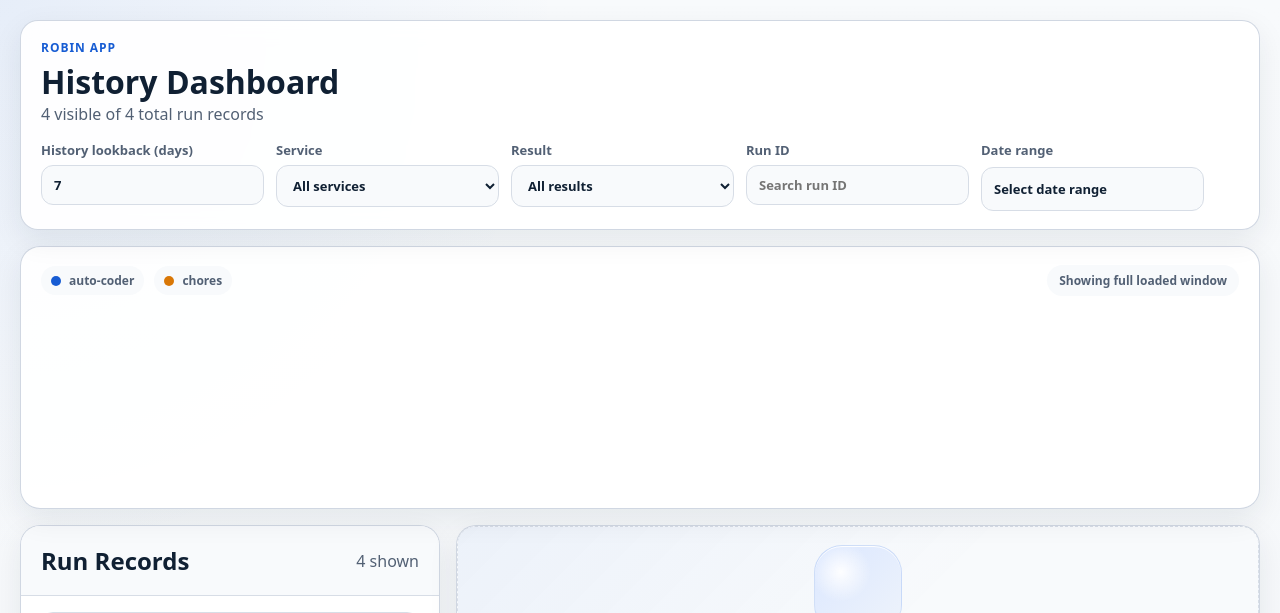
it: history dashboard timeline interactions › shows all records again when the date filter is cleared
The width and height of the screenshot is (1280, 613).
Expected: the text "4 visible of 4 total run records" is shown, [41,103,264,125]
Click the button "Select date range" at (1092, 189), box [981,167,1204,211]
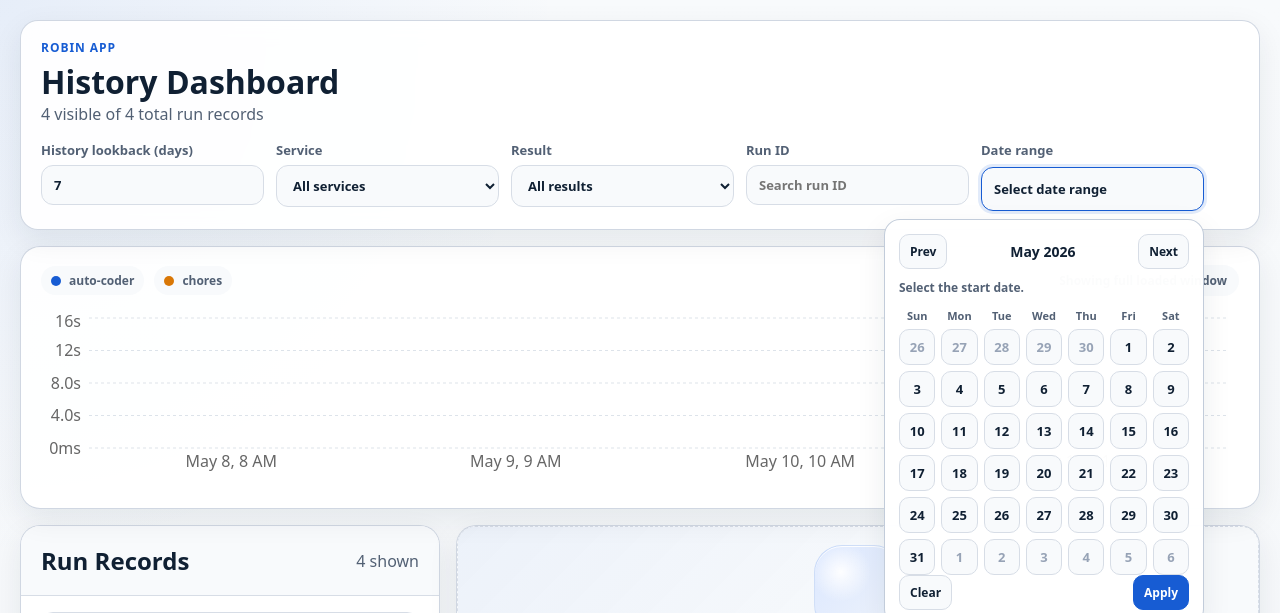
Click the button "10" at (917, 431), box [899,413,935,449]
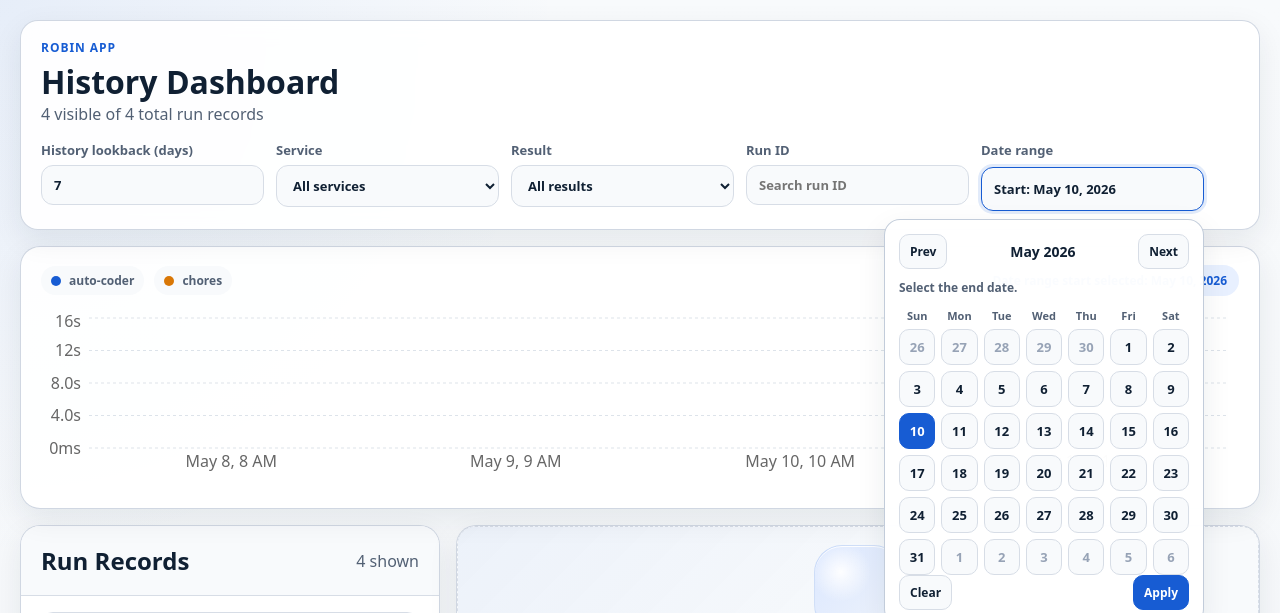
Click the button "11" at (959, 431), box [941,413,978,449]
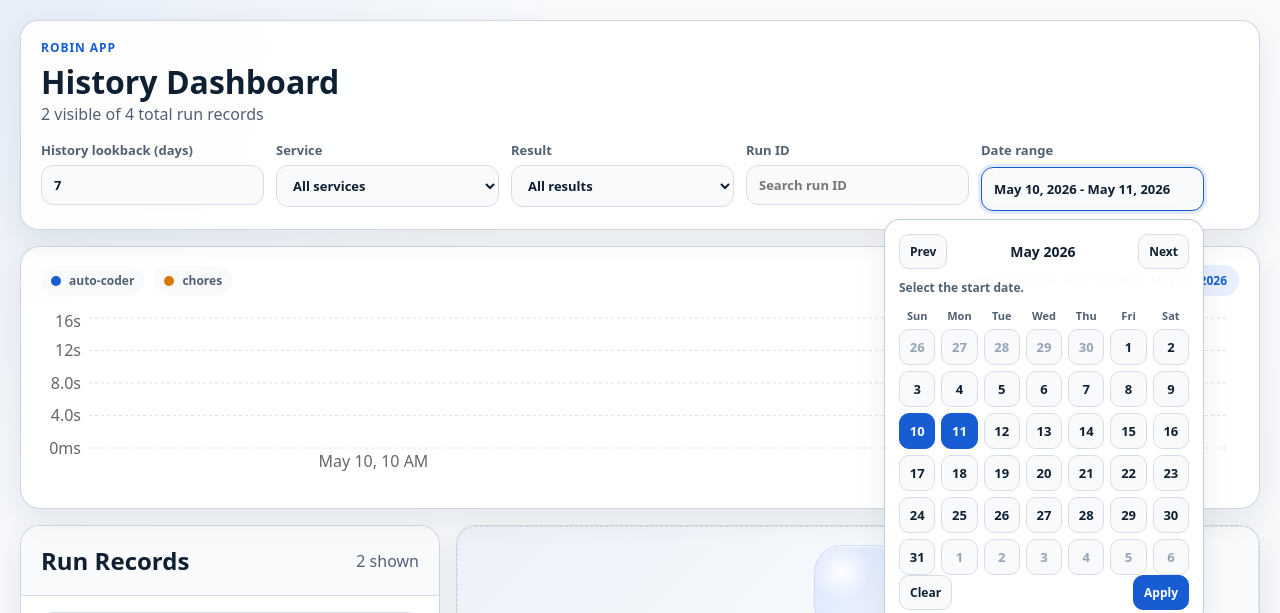
Expected: the text "2 shown" is shown, [356,550,419,572]
Click the button "Clear" at (926, 592), box [899,575,952,610]
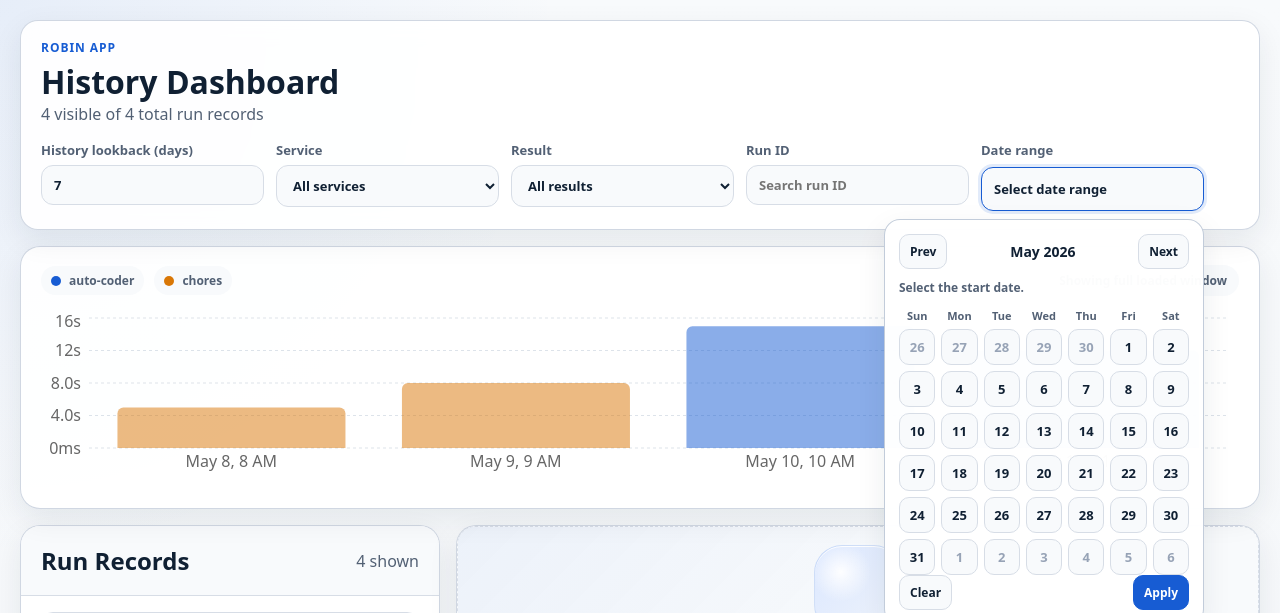
Expected: the text "Showing full loaded window" is shown, [1047,265,1239,296]
Expected: the text "4 shown" is shown, [356,550,419,572]
